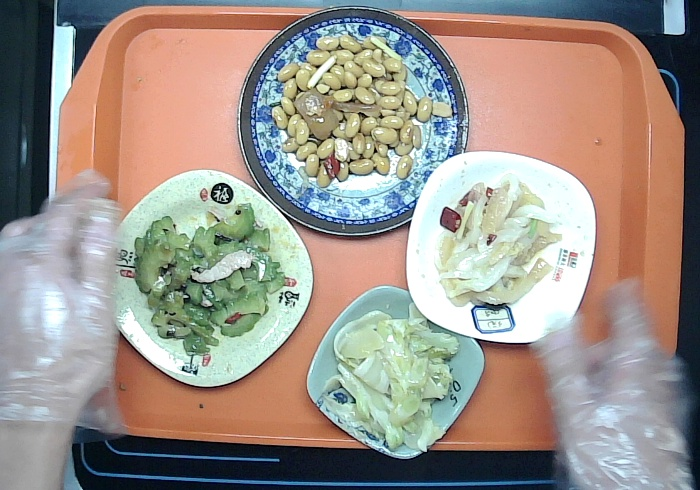NLDX-Bai_Se_Xiao_Fang_Die: (407, 149, 601, 347)
NLDX-Fu_Zi_Fang_Die: (99, 167, 316, 390)
NLDX-Qing_Hua_Xiao_Fang_Die: (305, 281, 489, 457)
NLDX-Qing_Hua_Yuan_Die: (236, 3, 470, 241)
